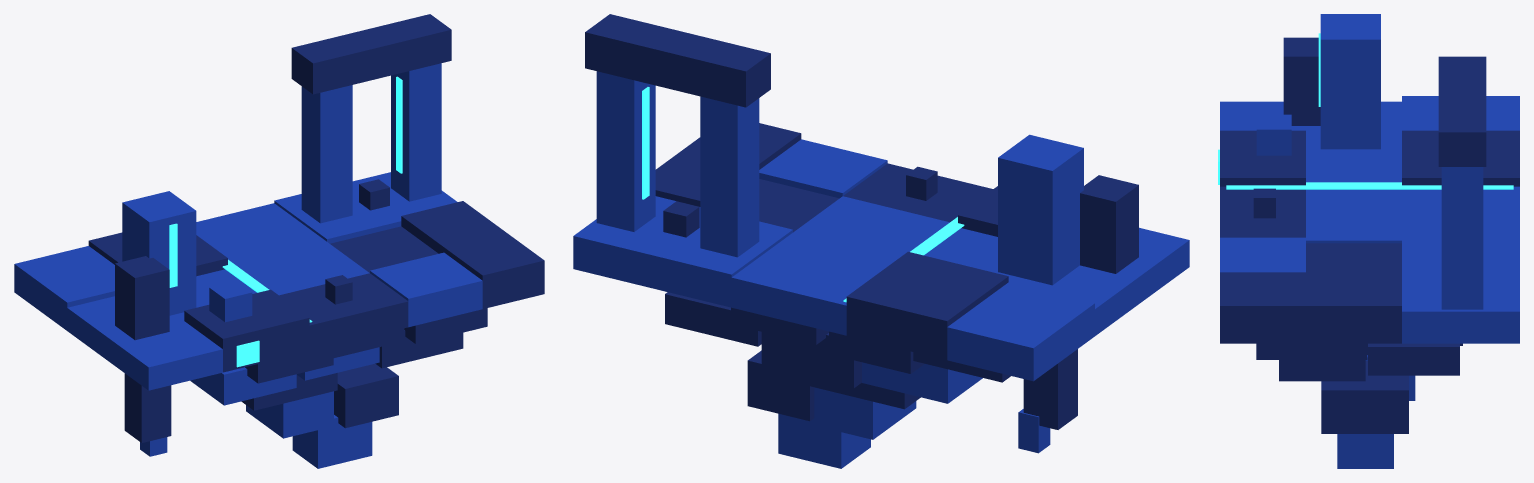
Rendered from w01_island_slab_b.glb.
3 views of the same model, side by side, from view 1: azimuth 30°, elevation 25°; view 2: azimuth 150°, elevation 25°; view 3: azimuth 270°, elevation 25° (orthographic). The views are drawn at different scales.
Visible parts, largest first — view 1: SlabB_Blue, SlabB_Navy, SlabB_Seams; view 2: SlabB_Blue, SlabB_Navy, SlabB_Seams; view 3: SlabB_Navy, SlabB_Blue, SlabB_Seams.
Boxes of the visible parts, x1=… form: SlabB_Blue: x1=14, y1=63, x2=482, y2=468; SlabB_Navy: x1=88, y1=14, x2=544, y2=442; SlabB_Seams: x1=169, y1=76, x2=402, y2=367; SlabB_Blue: x1=573, y1=71, x2=1189, y2=468; SlabB_Navy: x1=585, y1=14, x2=1138, y2=429; SlabB_Seams: x1=642, y1=87, x2=964, y2=302; SlabB_Navy: x1=1220, y1=37, x2=1519, y2=433; SlabB_Blue: x1=1220, y1=14, x2=1519, y2=468; SlabB_Seams: x1=1218, y1=33, x2=1513, y2=189.
Size of the model in its own units: 16.2 by 14 by 9.46.
